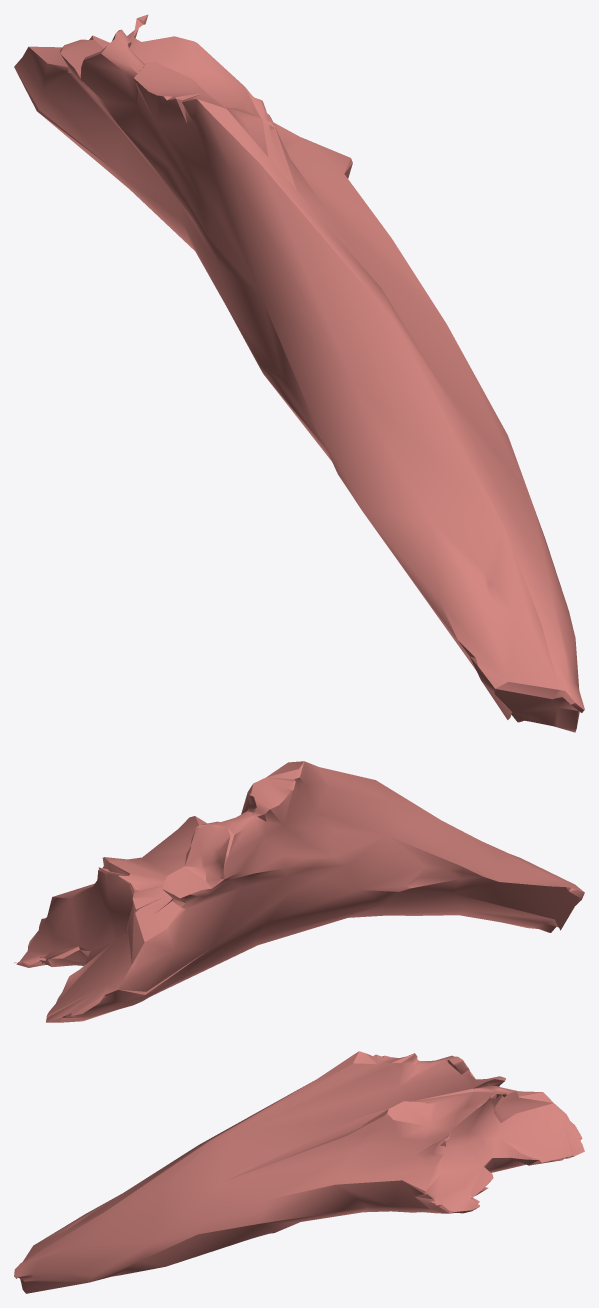
File: fma46019_fj1398m.glb
3 views of the same model, one above another, from view 1: azimuth 30°, elevation 25°; view 2: azimuth 150°, elevation 25°; view 3: azimuth 270°, elevation 25° (orthographic). The views are drawn at different scales.
Visible parts, largest first — view 1: FMA46019_FJ1398M; view 2: FMA46019_FJ1398M; view 3: FMA46019_FJ1398M.
Part boxes in pixels (box(x1,y1,x2,y2)): FMA46019_FJ1398M: box(14, 14, 584, 732); FMA46019_FJ1398M: box(14, 761, 584, 1022); FMA46019_FJ1398M: box(14, 1051, 584, 1293).
Bounding box in the file's own units: 0.0178 × 0.0289 × 0.0664.
